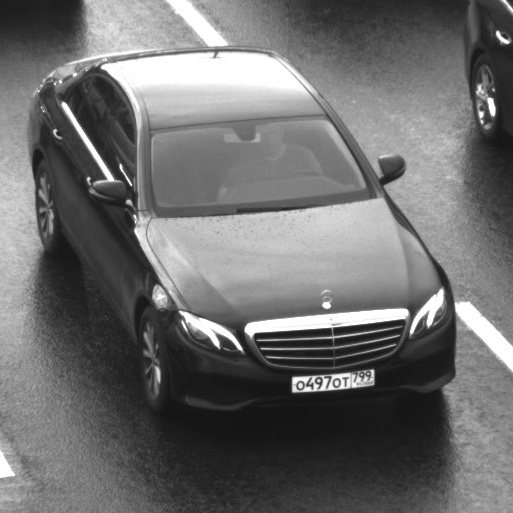plate: (278, 356, 386, 400)
